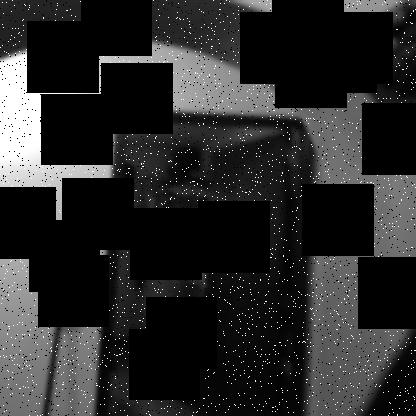Porte: (92, 106, 318, 416)
